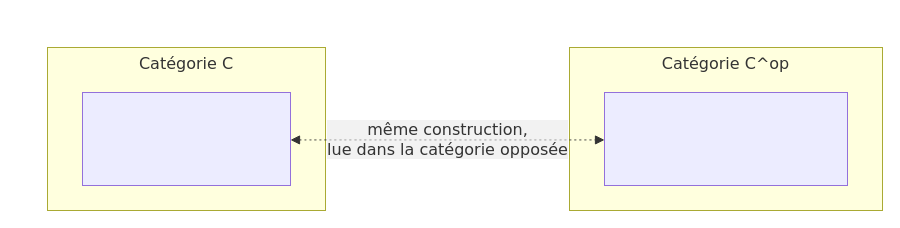
Image size: 900x228. Some labels were removed from this diagram. Each missing label, with the centre of its shape:
μF — algèbre initiale in : F(μF) ≅ μF fonde la terminaison: the point at 186,139
νF — coalgèbre terminale out : νF ≅ F(νF) fonde la productivité: the point at 726,139
